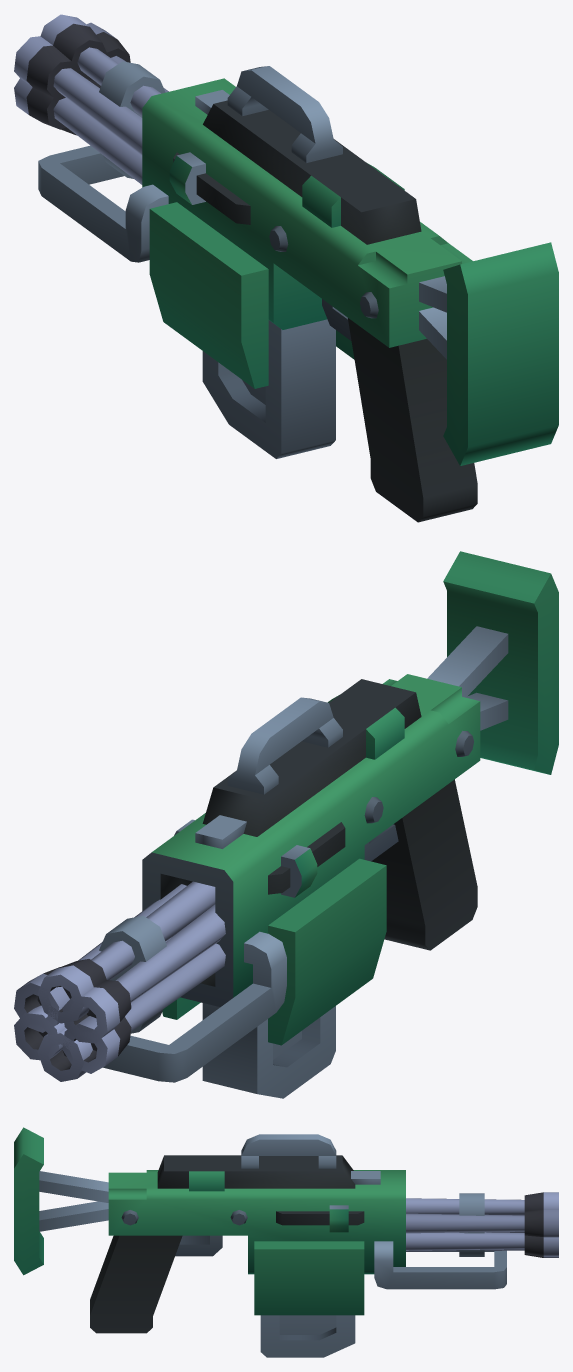
File: minigun_rotary.glb
3 views of the same model, one above another, from view 1: azimuth 30°, elevation 25°; view 2: azimuth 150°, elevation 25°; view 3: azimuth 270°, elevation 25° (orthographic). The views are drawn at different scales.
Visible parts, largest first — view 1: Receiver, magazine, Barrels2, Barrels3, Barrels1; view 2: Receiver, Barrels2, Barrels1, magazine, Barrels3; view 3: Receiver, magazine, Barrels3, Barrels2, Barrels1.
Part boxes in pixels (<box>): Receiver: <box>38,61,558,522</box>; magazine: <box>202,319,335,458</box>; Barrels2: <box>14,36,142,155</box>; Barrels3: <box>14,22,168,184</box>; Barrels1: <box>40,14,160,135</box>; Receiver: <box>99,551,558,1082</box>; Barrels2: <box>14,904,225,1060</box>; Barrels1: <box>37,881,215,1081</box>; magazine: <box>202,1003,335,1098</box>; Barrels3: <box>14,884,225,1073</box>; Receiver: <box>14,1127,506,1333</box>; magazine: <box>260,1315,355,1357</box>; Barrels3: <box>406,1209,558,1237</box>; Barrels2: <box>406,1232,558,1256</box>; Barrels1: <box>406,1192,558,1257</box>.
Size of the model in its own units: 0.16 by 0.3709 by 0.8621.
2 materials, 2 textured.
